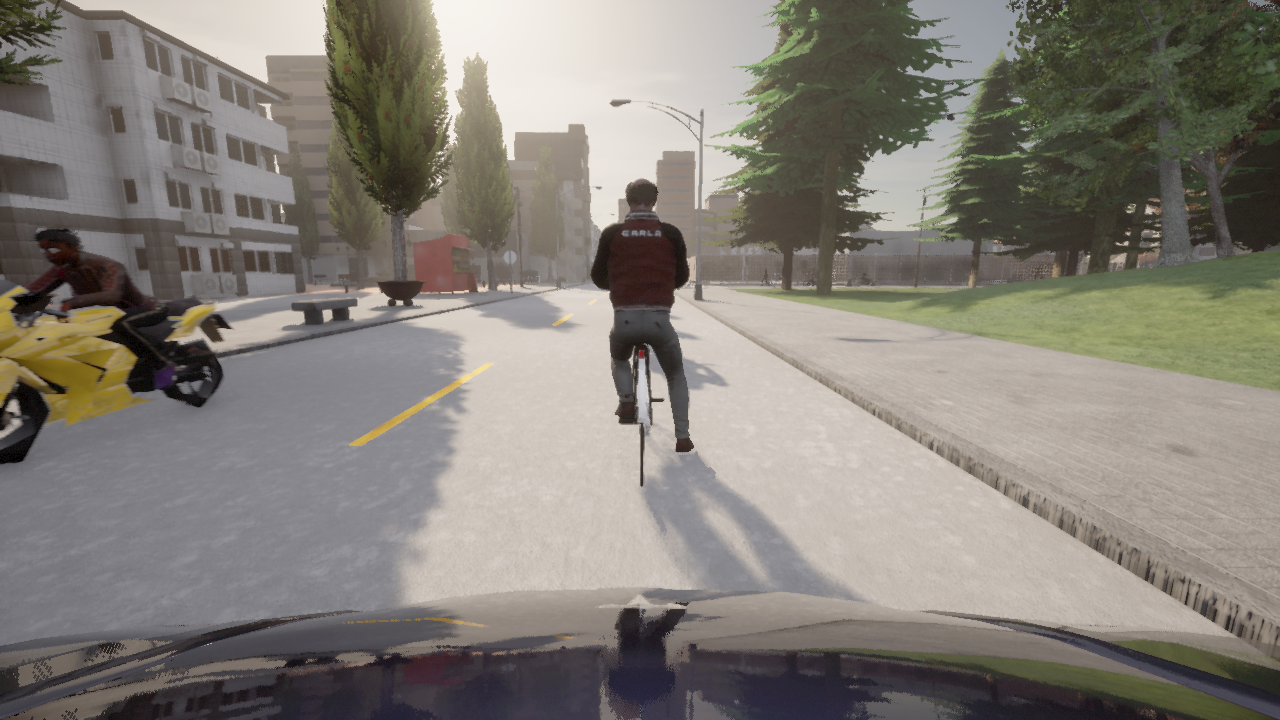cyclist: (0, 588, 1279, 719), (0, 278, 234, 464), (618, 343, 664, 486), (855, 276, 875, 286), (737, 272, 759, 279), (802, 276, 816, 286), (717, 268, 730, 278), (799, 269, 810, 279), (770, 272, 781, 279), (747, 273, 755, 279), (1037, 275, 1044, 279), (636, 354, 637, 355)
pedestrian: (760, 266, 769, 286), (541, 274, 544, 284)
